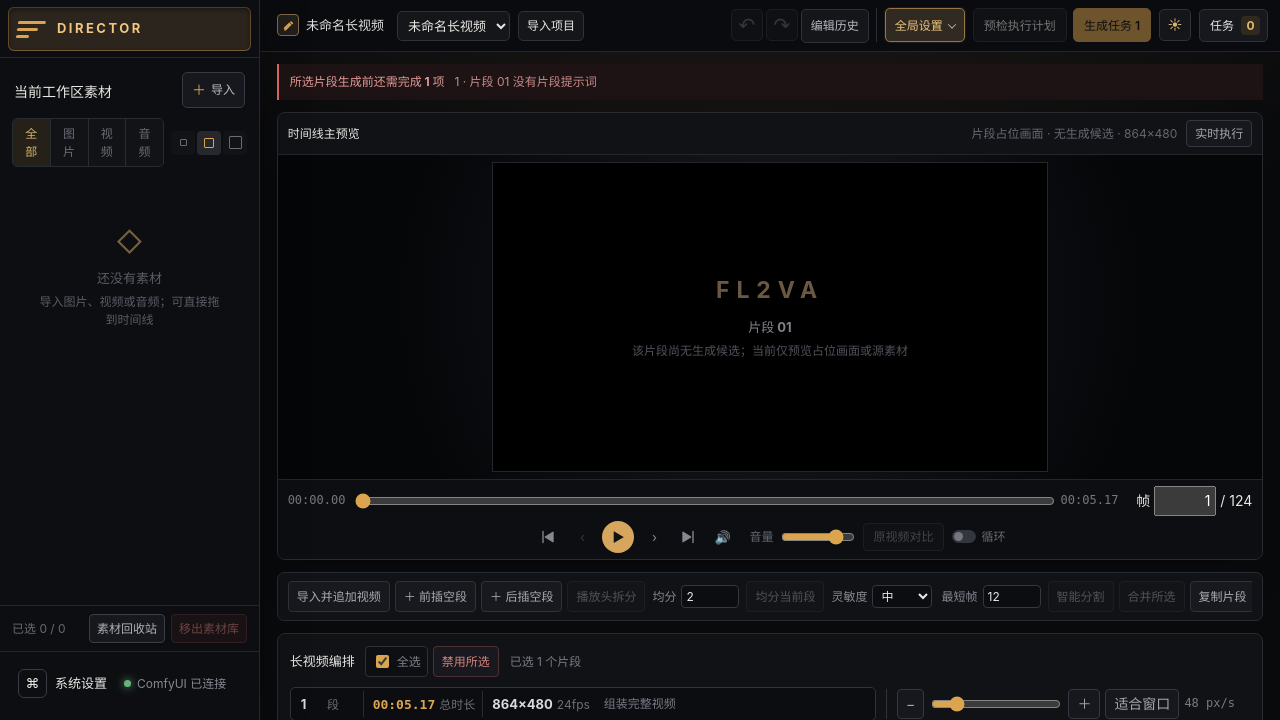
统一长视频时间线应用 › 以素材库和统一 timeline 替代六模式导航
Expected: the text "ComfyUI 已连接" is shown, [137,675,226,692]
Expected: the element named "当前工作区素材库" is shown, [0,0,260,719]
Click the button "实时执行": point(1219, 134) [1186,120,1252,147]
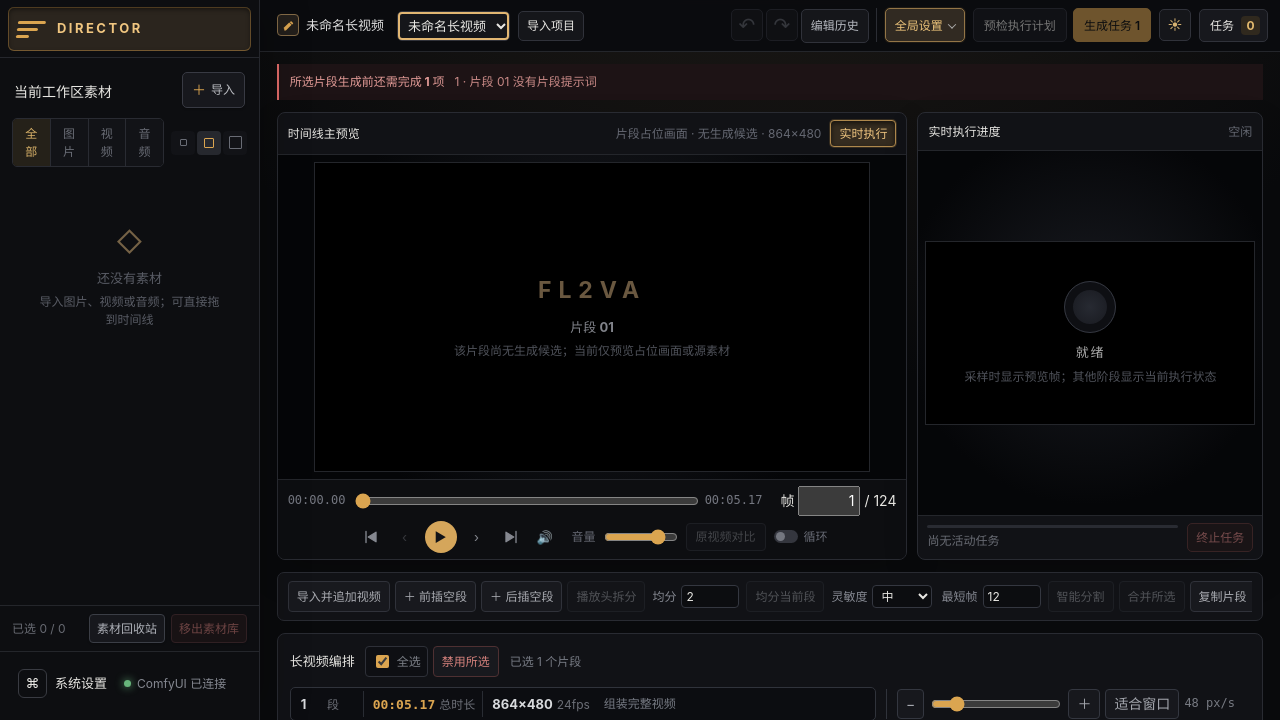
Expected: the element named "切换项目" is shown, [272,10,584,42]
Expected: the button "实时执行" is expanded, [830,120,896,147]
Expected: the text "实时执行进度" is shown, [928,123,1000,140]
